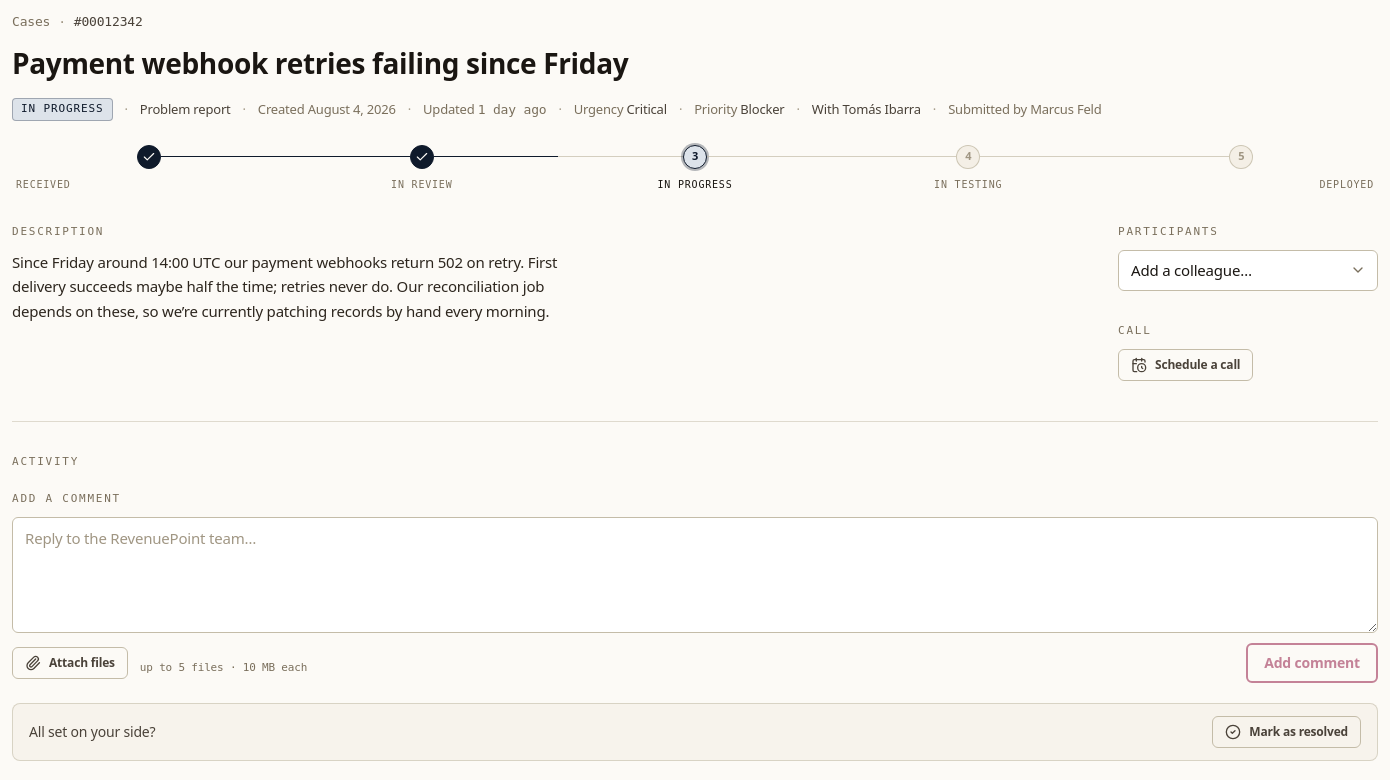
CommentComposer › persists the comment through the real mock endpoint
Expected: the heading "Payment webhook retries failing since Friday" is shown, [12,44,628,82]
Type "Adding our webhook delivery logs tomorrow." into the text box labelled "Add a comment" at (695, 575), box [12,517,1378,632]
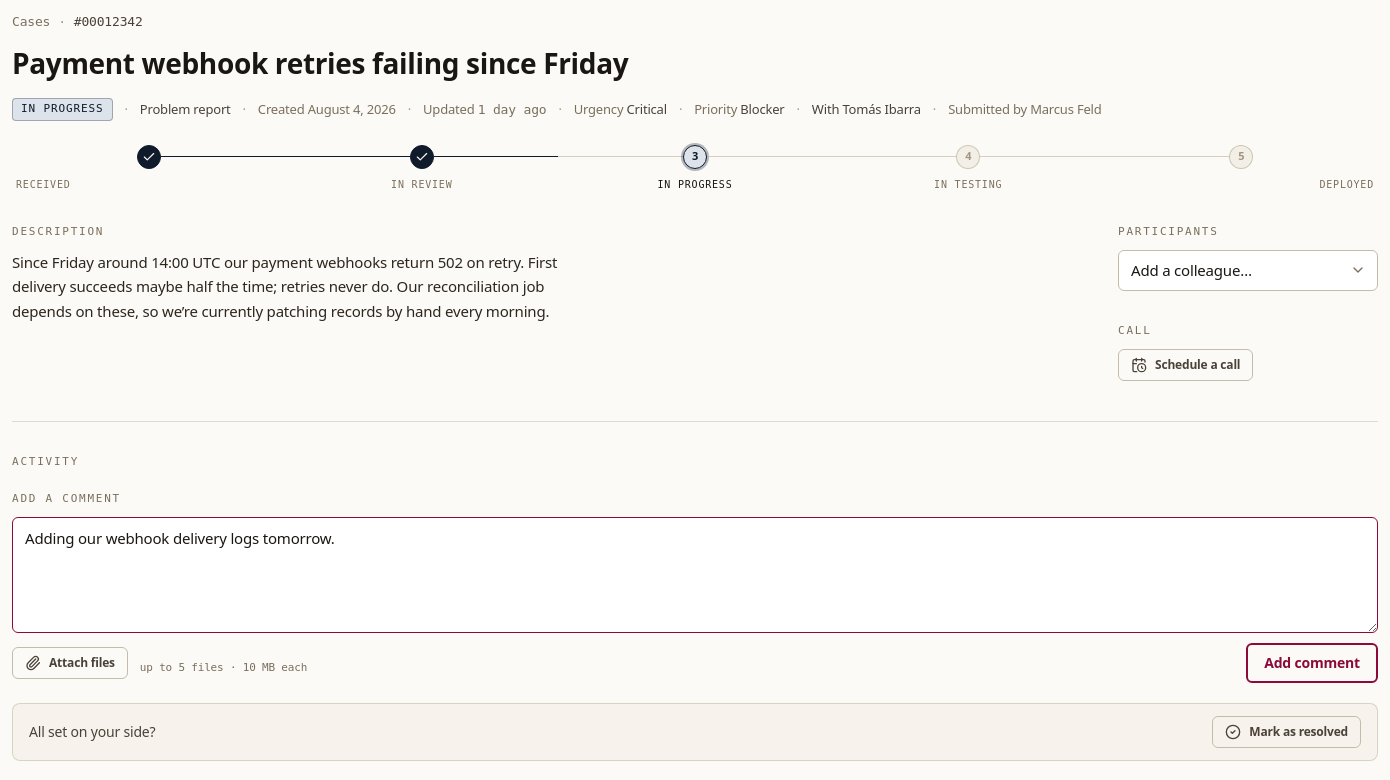
Click the button "Add comment" at (1312, 662), box [1246,642,1378,682]
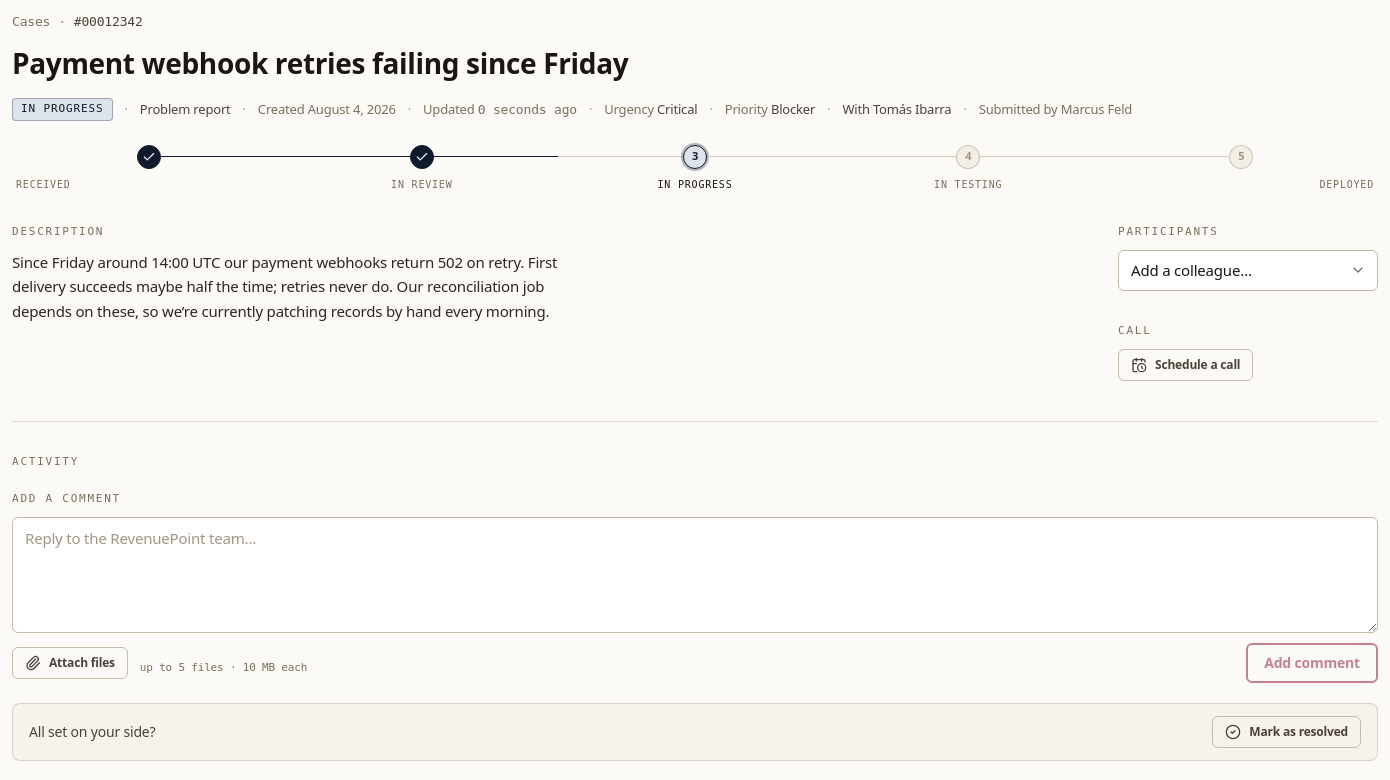
Expected: the button "Add comment" is disabled, [1246,642,1378,682]
